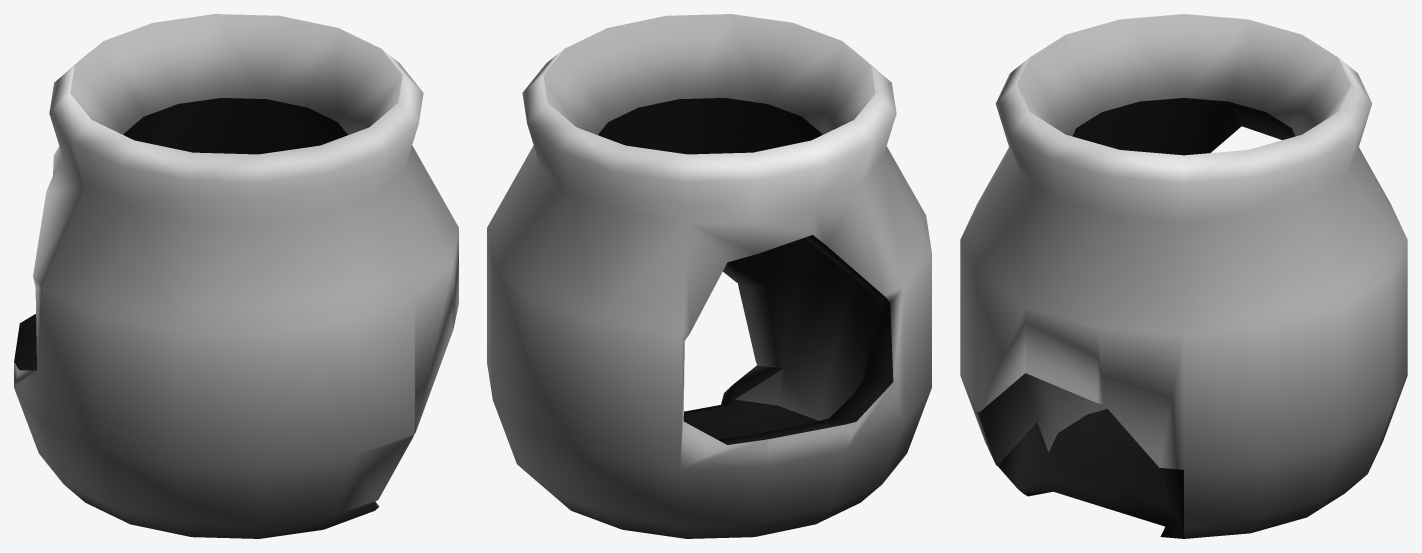
Rendered from pot-cracked.obj.
3 views of the same model, side by side, from view 1: azimuth 30°, elevation 25°; view 2: azimuth 150°, elevation 25°; view 3: azimuth 270°, elevation 25° (orthographic).
Parts seen in each view (by area): view 1: Pot_cracked; view 2: Pot_cracked; view 3: Pot_cracked.
Boxes of the visible parts, x1,y1,x2,y2 form: Pot_cracked: (14, 14, 458, 538); Pot_cracked: (487, 14, 931, 538); Pot_cracked: (960, 14, 1407, 538).
Bounding box in the file's own units: 2.57 × 2.41 × 2.57.
1 material, 1 textured.
